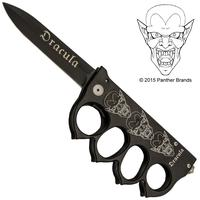knife: (1, 2, 184, 191)
